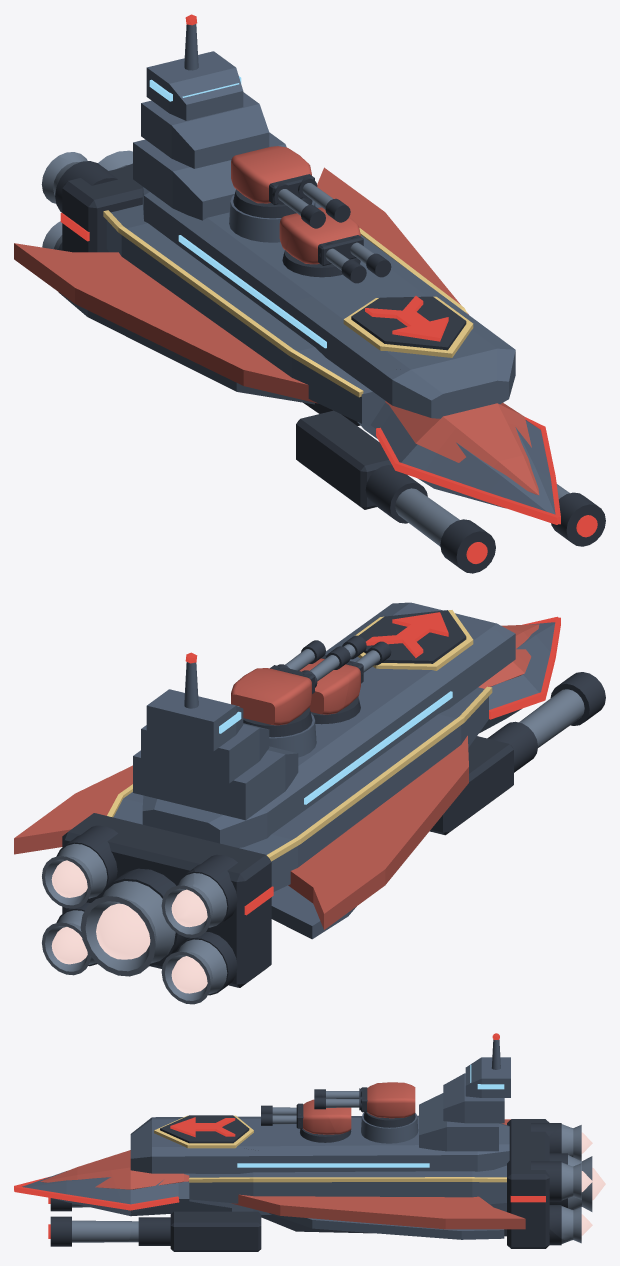
Rendered from vanguard_wreck.glb.
The picture shows the model from 3 angles, top to bottom: view 1: azimuth 30°, elevation 25°; view 2: azimuth 150°, elevation 25°; view 3: azimuth 270°, elevation 25°; orthographic projection. The views are drawn at different scales.
Parts seen in each view (by area): view 1: vanguard_wreck_09, vanguard_wreck_08, vanguard_wreck_17, vanguard_wreck_12, vanguard_wreck_01, vanguard_wreck_13, vanguard_wreck_02, vanguard_wreck_03, vanguard_wreck_11, vanguard_wreck_00, vanguard_wreck_05, vanguard_wreck_10 (+2 smaller); view 2: vanguard_wreck_09, vanguard_wreck_08, vanguard_wreck_00, vanguard_wreck_01, vanguard_wreck_16, vanguard_wreck_06, vanguard_wreck_02, vanguard_wreck_17, vanguard_wreck_12, vanguard_wreck_05, vanguard_wreck_03, vanguard_wreck_13 (+2 smaller); view 3: vanguard_wreck_05, vanguard_wreck_07, vanguard_wreck_13, vanguard_wreck_01, vanguard_wreck_06, vanguard_wreck_11, vanguard_wreck_17, vanguard_wreck_04, vanguard_wreck_02, vanguard_wreck_16, vanguard_wreck_14, vanguard_wreck_15 (+5 smaller).
Part boxes in pixels (left/top/right/bottom): vanguard_wreck_09: left=23, top=129, right=231, bottom=364; vanguard_wreck_08: left=204, top=264, right=441, bottom=440; vanguard_wreck_17: left=173, top=201, right=430, bottom=356; vanguard_wreck_12: left=313, top=368, right=462, bottom=530; vanguard_wreck_01: left=183, top=146, right=378, bottom=330; vanguard_wreck_13: left=400, top=301, right=546, bottom=435; vanguard_wreck_02: left=141, top=14, right=266, bottom=158; vanguard_wreck_03: left=417, top=425, right=559, bottom=573; vanguard_wreck_11: left=481, top=423, right=605, bottom=546; vanguard_wreck_00: left=14, top=156, right=137, bottom=297; vanguard_wreck_05: left=237, top=124, right=420, bottom=260; vanguard_wreck_10: left=171, top=343, right=360, bottom=475; vanguard_wreck_09: left=183, top=729, right=434, bottom=933; vanguard_wreck_08: left=350, top=622, right=506, bottom=796; vanguard_wreck_00: left=155, top=842, right=338, bottom=1004; vanguard_wreck_01: left=231, top=644, right=420, bottom=808; vanguard_wreck_16: left=45, top=839, right=194, bottom=976; vanguard_wreck_06: left=14, top=807, right=187, bottom=955; vanguard_wreck_02: left=141, top=652, right=267, bottom=783; vanguard_wreck_17: left=305, top=635, right=449, bottom=815; vanguard_wreck_12: left=466, top=626, right=555, bottom=819; vanguard_wreck_05: left=26, top=750, right=188, bottom=836; vanguard_wreck_03: left=510, top=617, right=605, bottom=737; vanguard_wreck_13: left=332, top=602, right=501, bottom=647; vanguard_wreck_05: left=370, top=1106, right=510, bottom=1238; vanguard_wreck_07: left=223, top=1148, right=376, bottom=1233; vanguard_wreck_13: left=110, top=1118, right=233, bottom=1212; vanguard_wreck_01: left=320, top=1082, right=436, bottom=1182; vanguard_wreck_06: left=505, top=1134, right=592, bottom=1240; vanguard_wreck_11: left=14, top=1162, right=131, bottom=1246; vanguard_wreck_17: left=244, top=1089, right=350, bottom=1173; vanguard_wreck_04: left=128, top=1200, right=233, bottom=1251; vanguard_wreck_02: left=443, top=1033, right=510, bottom=1115; vanguard_wreck_16: left=516, top=1125, right=605, bottom=1243; vanguard_wreck_14: left=443, top=1193, right=566, bottom=1248; vanguard_wreck_15: left=216, top=1197, right=297, bottom=1251.
Bounding box in the file's own units: 4.4 × 4.17 × 11.09.
